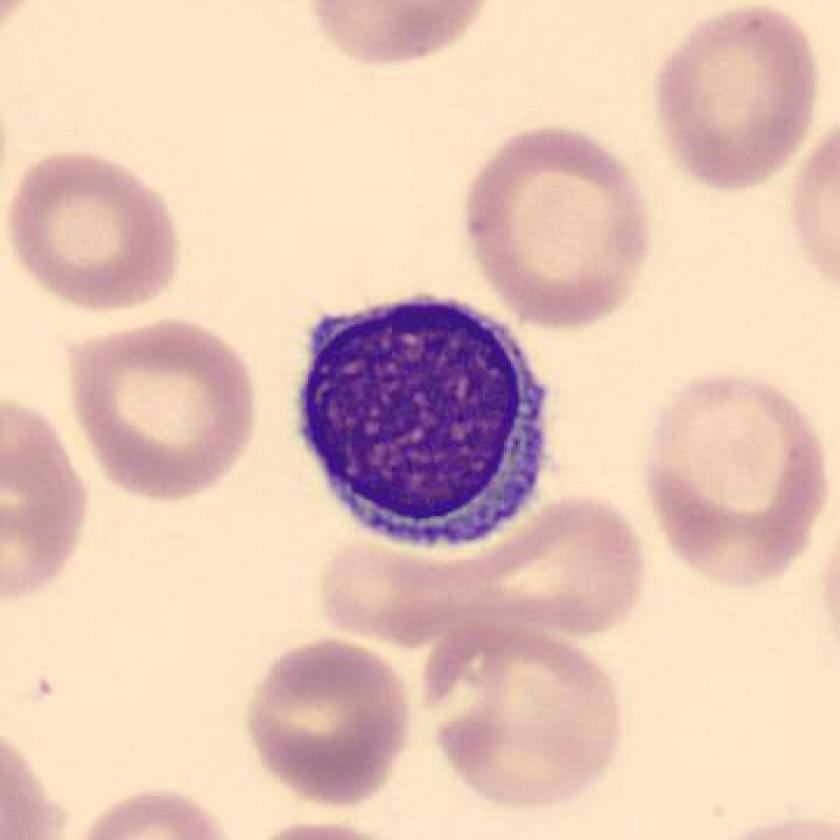lymphocyte: (279, 274, 566, 563)
